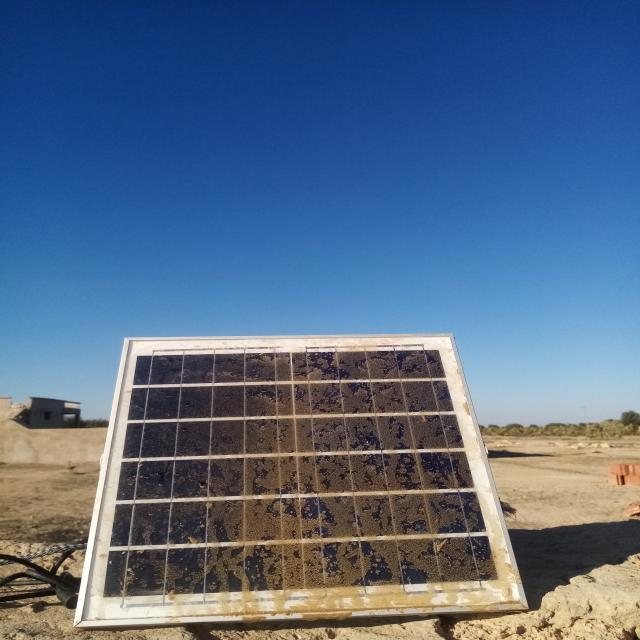faulty: (76, 334, 527, 625)
